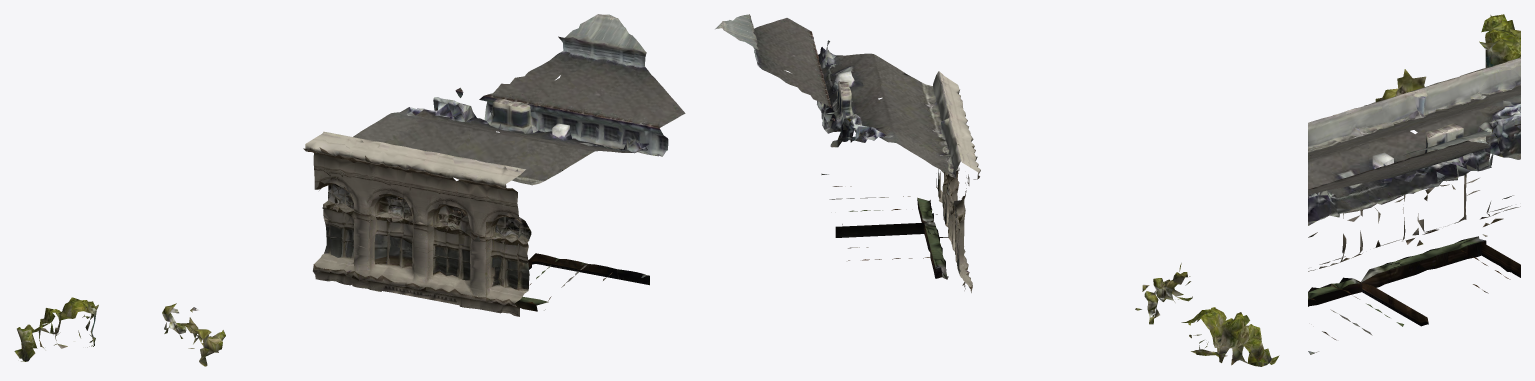
The picture shows the model from 3 angles, left to right: view 1: azimuth 30°, elevation 25°; view 2: azimuth 150°, elevation 25°; view 3: azimuth 270°, elevation 25°; orthographic projection. The views are drawn at different scales.
Size of the model in its own units: 46.67 by 15.81 by 12.34.
1 material, 1 textured.
